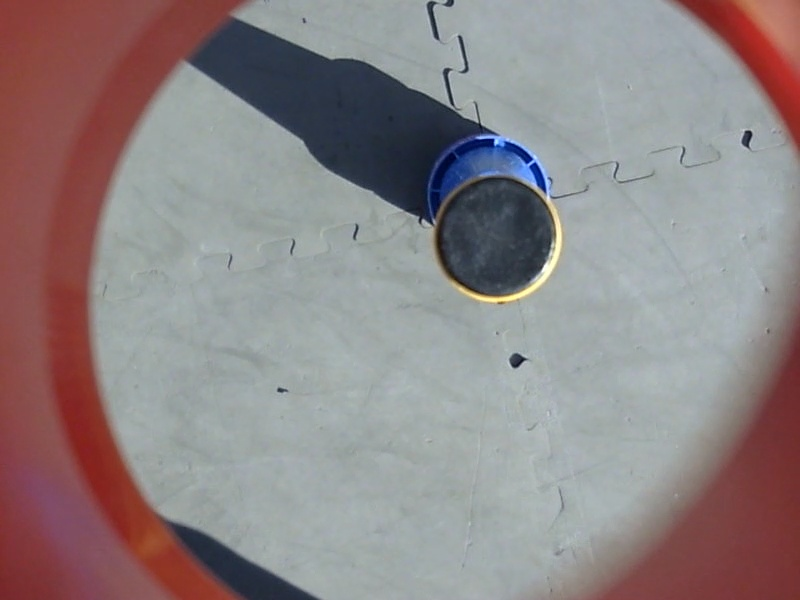tip: (427, 166, 567, 311)
